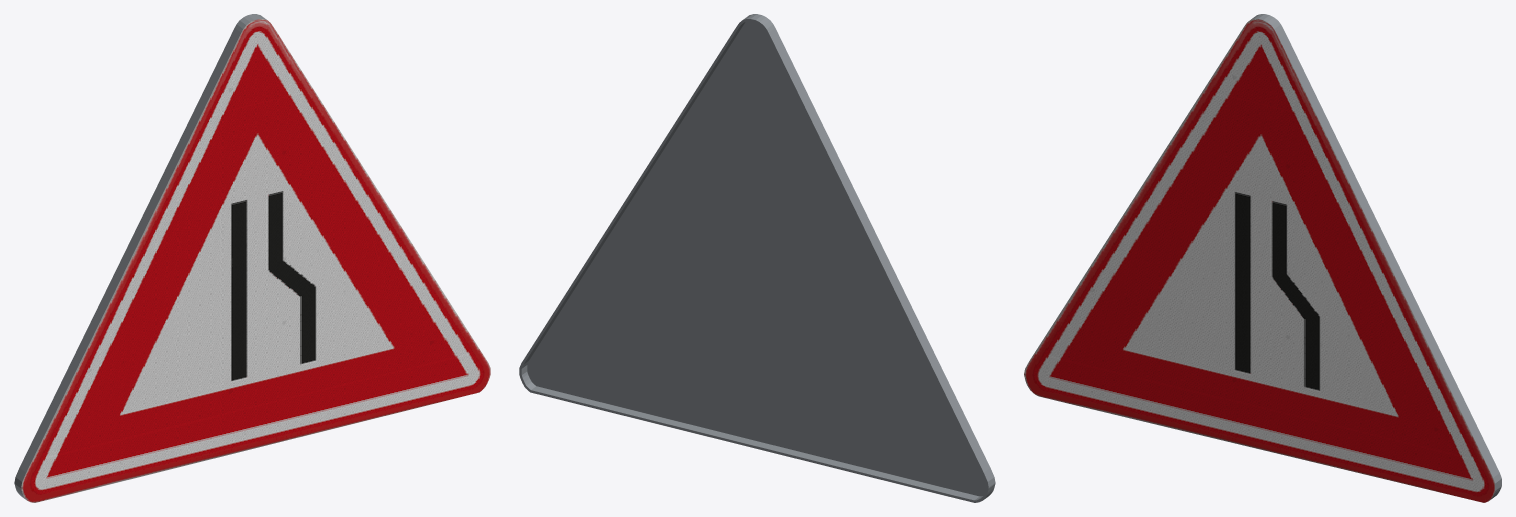
3 renders of one model, left to right at view 1: azimuth 30°, elevation 25°; view 2: azimuth 150°, elevation 25°; view 3: azimuth 330°, elevation 25°, orthographic.
Visible parts, largest first — view 1: cat_a2835e376ce09b36; view 2: cat_a2835e376ce09b36; view 3: cat_a2835e376ce09b36.
Part boxes in pixels (bbox=[...]): cat_a2835e376ce09b36: bbox=[14, 14, 490, 502]; cat_a2835e376ce09b36: bbox=[519, 14, 995, 502]; cat_a2835e376ce09b36: bbox=[1024, 14, 1501, 502].
Size of the model in its own units: 0.6 by 0.015 by 0.5245.
Materials: 2 (1 with a texture image).
